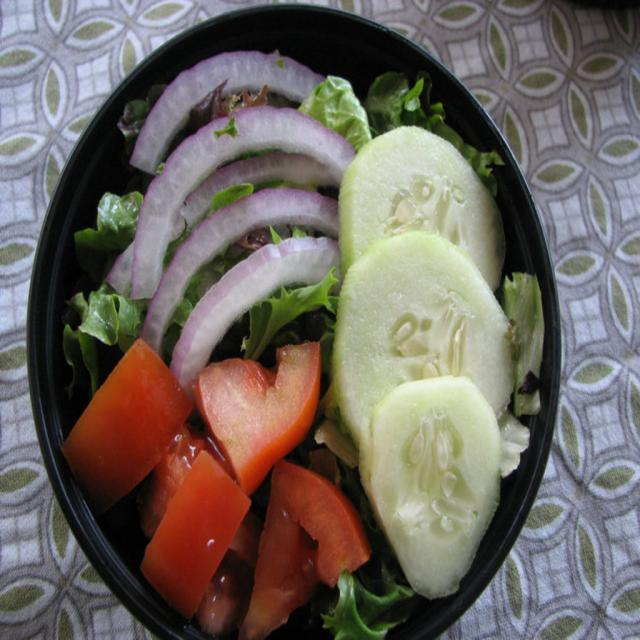Cucumber: (332, 230, 513, 438), (349, 369, 509, 593), (338, 131, 507, 297)
